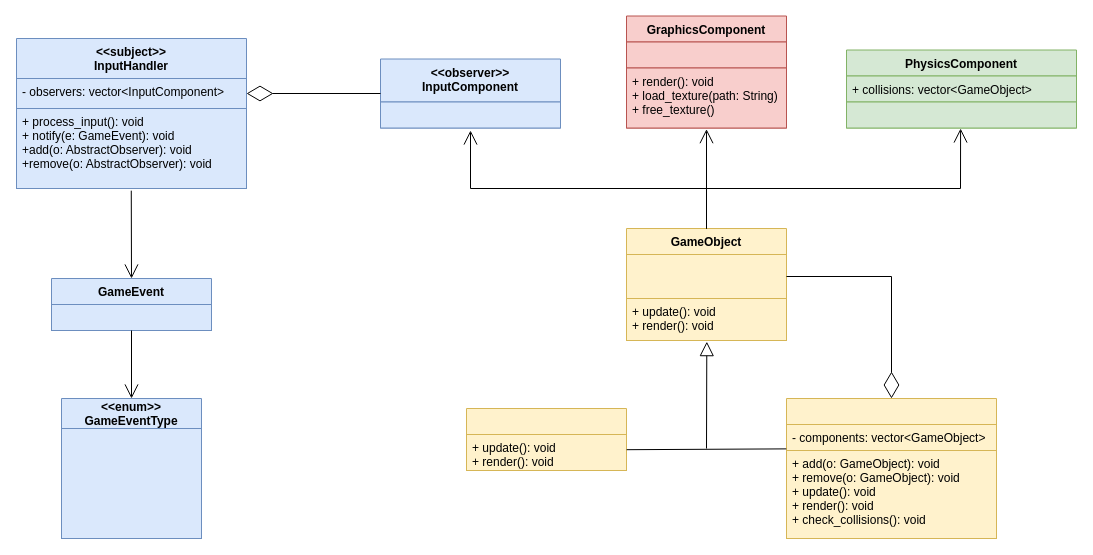
The diagram is 1093 pixels wide and 555 high, and some of its shapes have lost their labels. The box of each missing label's shape, as (x1, y1, x2, y2) in pixels:
+ check_collision(o: GameObject): bool: (846, 101, 1076, 128)
+ MoveRight + MoveLeft + MoveDown + MoveUp + Pause + Unpause + Click: (60, 428, 202, 538)
+ pos_x: int + pos_y : int: (626, 254, 786, 298)
+ process(e: GameEvent): void: (380, 101, 560, 128)
- texture: int: (626, 41, 786, 68)
- type: GameEventType: (50, 304, 212, 330)
ContainerObject: (786, 398, 996, 538)
SimpleObject: (466, 408, 626, 470)
